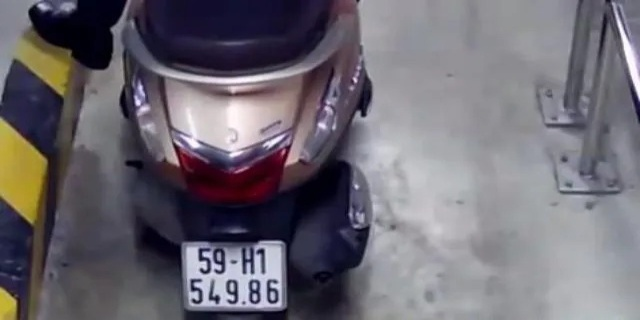bien_so: (183, 241, 289, 312)
